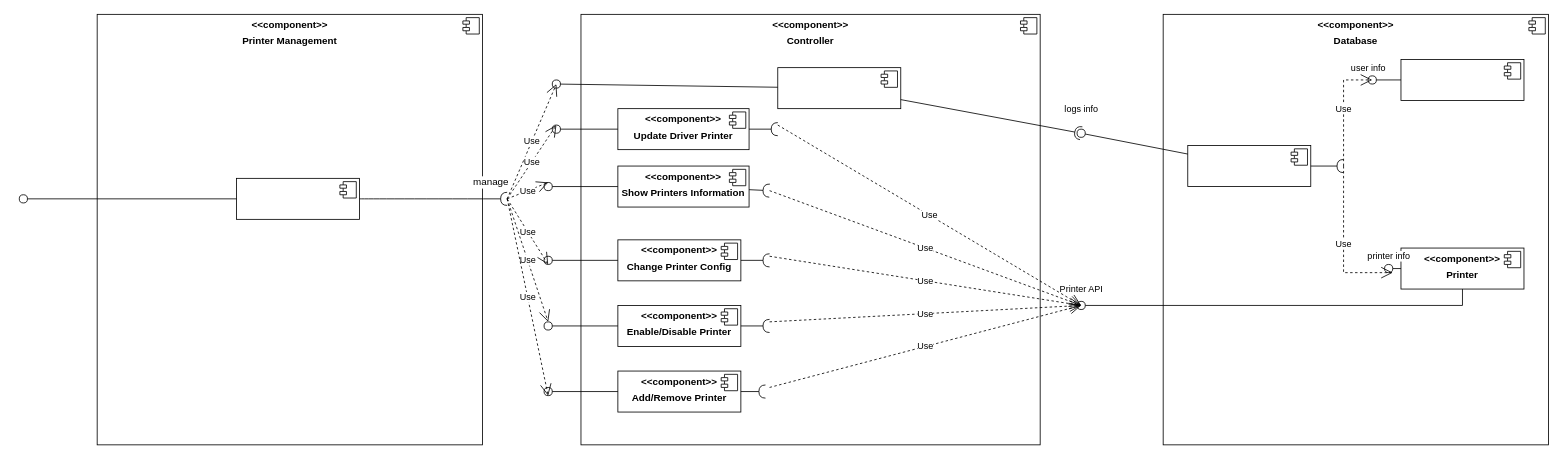
Some shapes in this 1563 by 459 pixel diagram are drawn without their labels. Here are the shapes that lost their labels. From the top down, the centre of each, then its label:
At (839,88): "<<component>> View Logs".
At (1462,79): "<<component>> User".
At (1249,166): "<<component>> Logs".
At (298,198): "<<component>> PrinterManagement".
